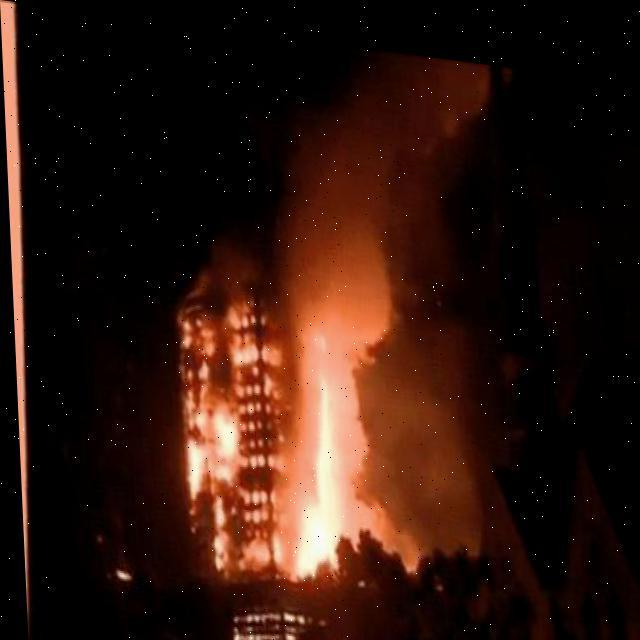Fire: (172, 289, 347, 581)
